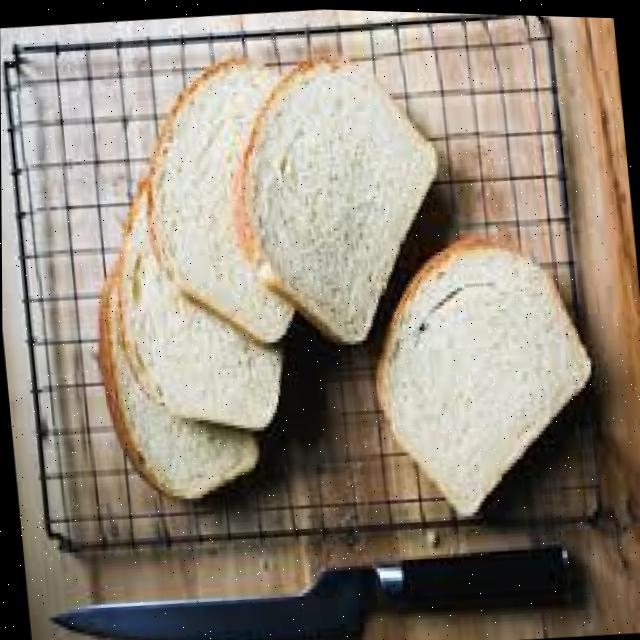Bread: (376, 236, 589, 511), (244, 63, 435, 337), (147, 57, 292, 340), (117, 187, 281, 427), (97, 273, 257, 495)
